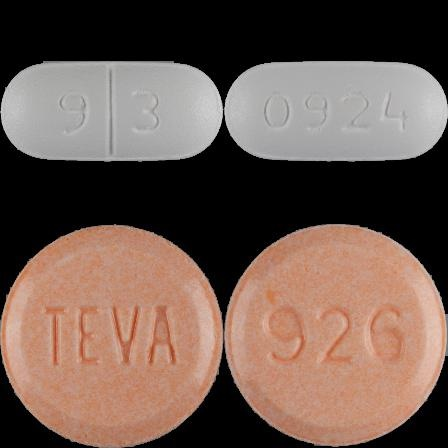0093-0924: (0, 0, 224, 224)
